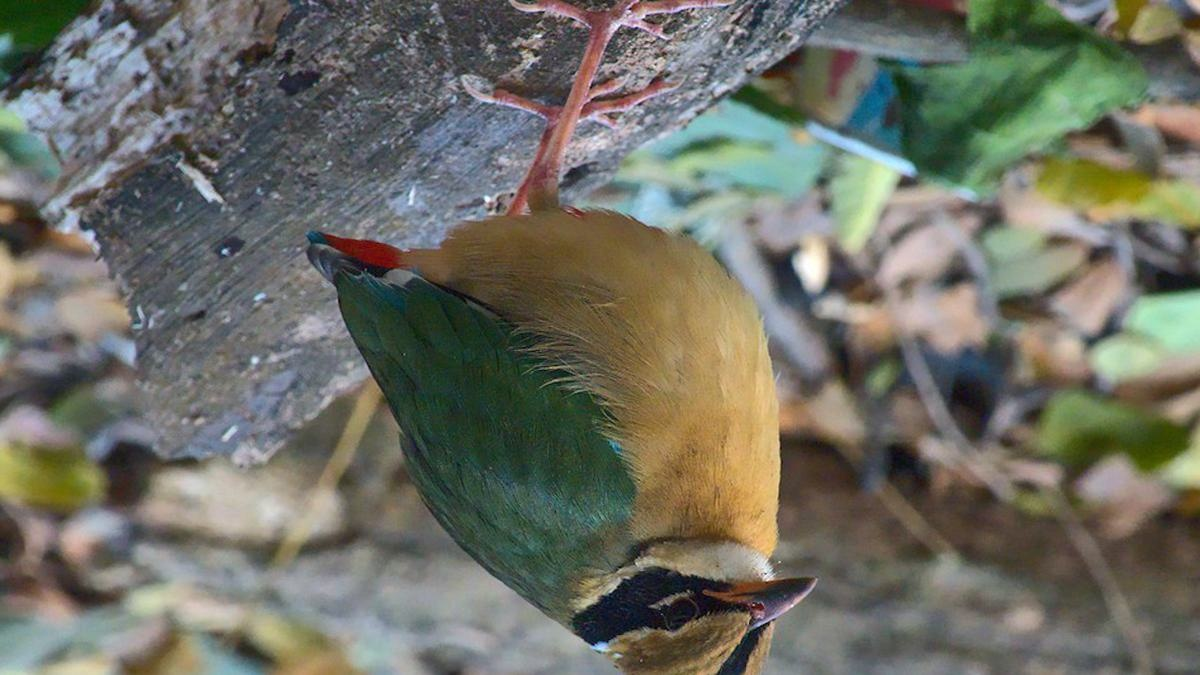pitta: (311, 45, 850, 675)
